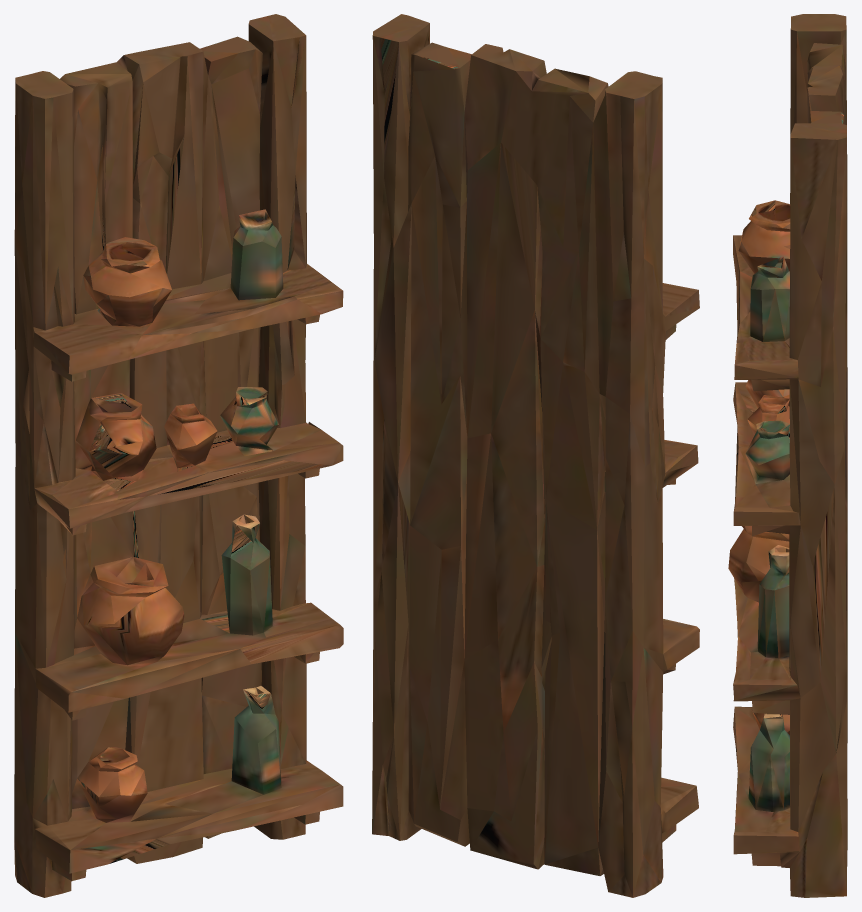
The model's file is shelf.low.glb.
The picture shows the model from 3 angles, left to right: view 1: azimuth 30°, elevation 25°; view 2: azimuth 150°, elevation 25°; view 3: azimuth 270°, elevation 25°; orthographic projection. The views are drawn at different scales.
Visible parts, largest first — view 1: output_unwrapped; view 2: output_unwrapped; view 3: output_unwrapped.
Boxes of the visible parts, box(x1,y1,x2,y2) form: output_unwrapped: box(14, 14, 343, 897); output_unwrapped: box(372, 14, 699, 897); output_unwrapped: box(728, 14, 847, 897).
Bounding box in the file's own units: 0.6866 × 1.9 × 0.2702.
1 material, 1 textured.
